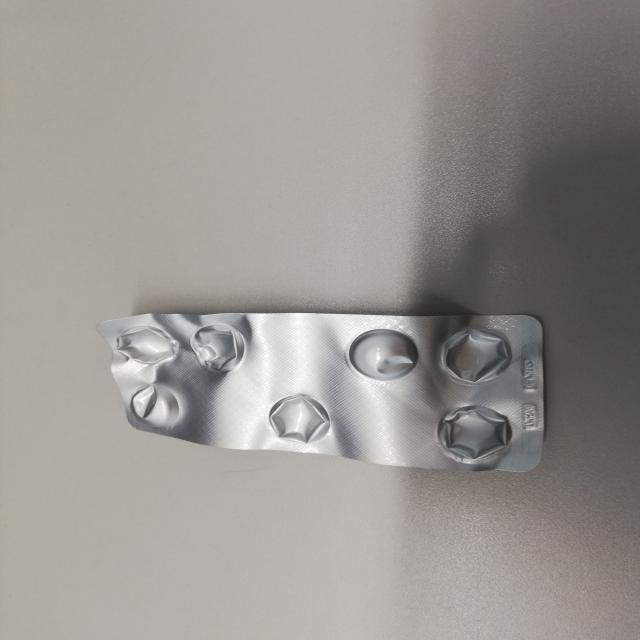Empty: (428, 400, 515, 468), (437, 322, 515, 386), (259, 388, 339, 447), (183, 319, 250, 376), (124, 381, 195, 434), (113, 324, 180, 369)
Pill: (339, 322, 422, 383)
